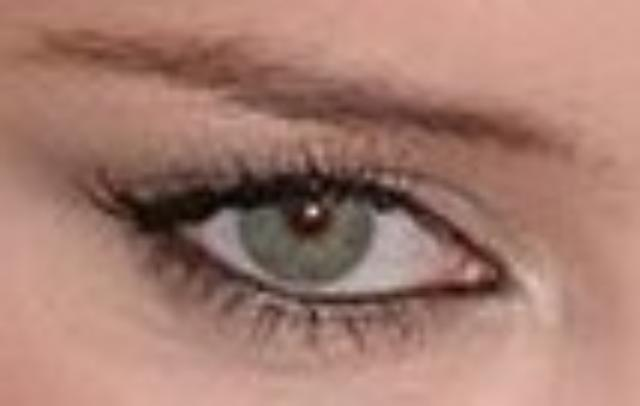eye: (240, 180, 374, 290)
